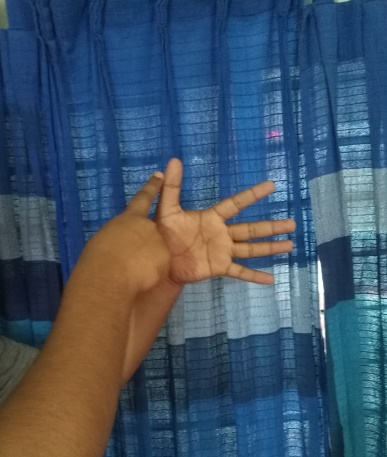a: (119, 155, 298, 290)
